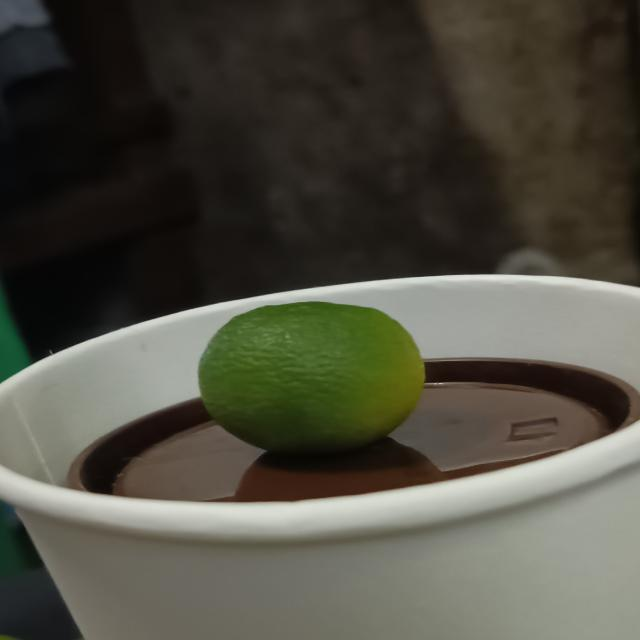heathy: (190, 296, 436, 464)
